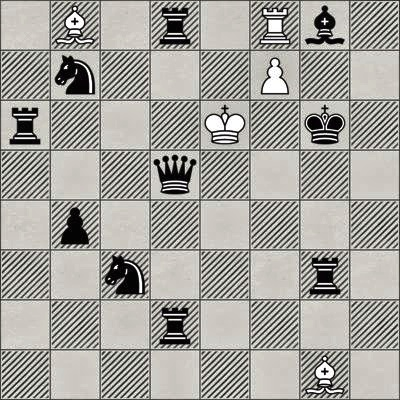black-bishop: (300, 0, 350, 50)
black-king: (300, 100, 350, 150)
black-knight: (50, 50, 100, 100), (100, 250, 150, 300)
black-pawn: (50, 200, 100, 250)
black-queen: (150, 150, 200, 200)
black-rook: (150, 0, 200, 50), (0, 100, 50, 150), (300, 250, 350, 300), (150, 300, 200, 350)
white-bishop: (50, 0, 100, 50), (300, 350, 350, 400)
white-king: (200, 100, 250, 150)
white-pawn: (250, 50, 300, 100)
white-rook: (250, 0, 300, 50)
